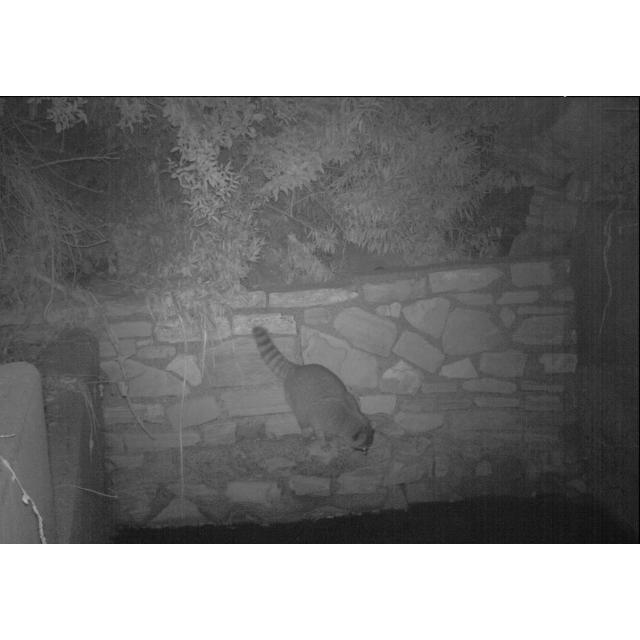animals: (252, 323, 376, 455)
